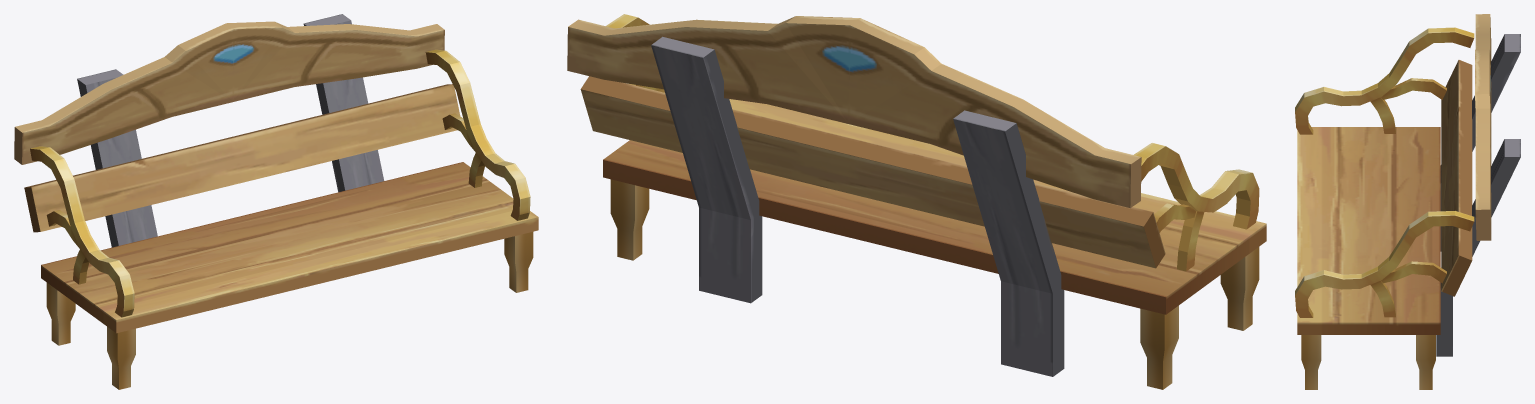
The model's file is zhucheng_dengzi_1.FBX.
3 views of the same model, side by side, from view 1: azimuth 30°, elevation 25°; view 2: azimuth 150°, elevation 25°; view 3: azimuth 270°, elevation 25° (orthographic). The views are drawn at different scales.
Visible parts, largest first — view 1: zhucheng_dengzi_1; view 2: zhucheng_dengzi_1; view 3: zhucheng_dengzi_1.
Part boxes in pixels (x1=…): zhucheng_dengzi_1: x1=14, y1=14, x2=538, y2=389; zhucheng_dengzi_1: x1=567, y1=14, x2=1266, y2=389; zhucheng_dengzi_1: x1=1295, y1=14, x2=1520, y2=389.
Size of the model in its own units: 199 by 111 by 97.14.
